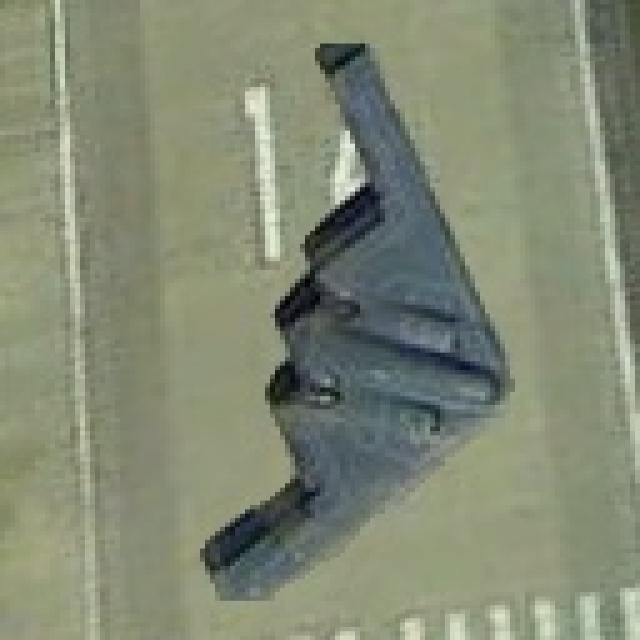B-2_TopDown: (185, 35, 520, 601)
